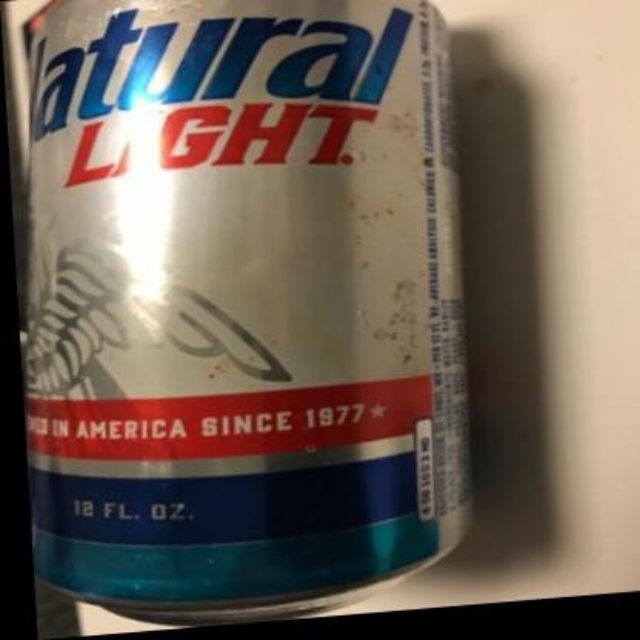trash: (3, 0, 468, 635)
